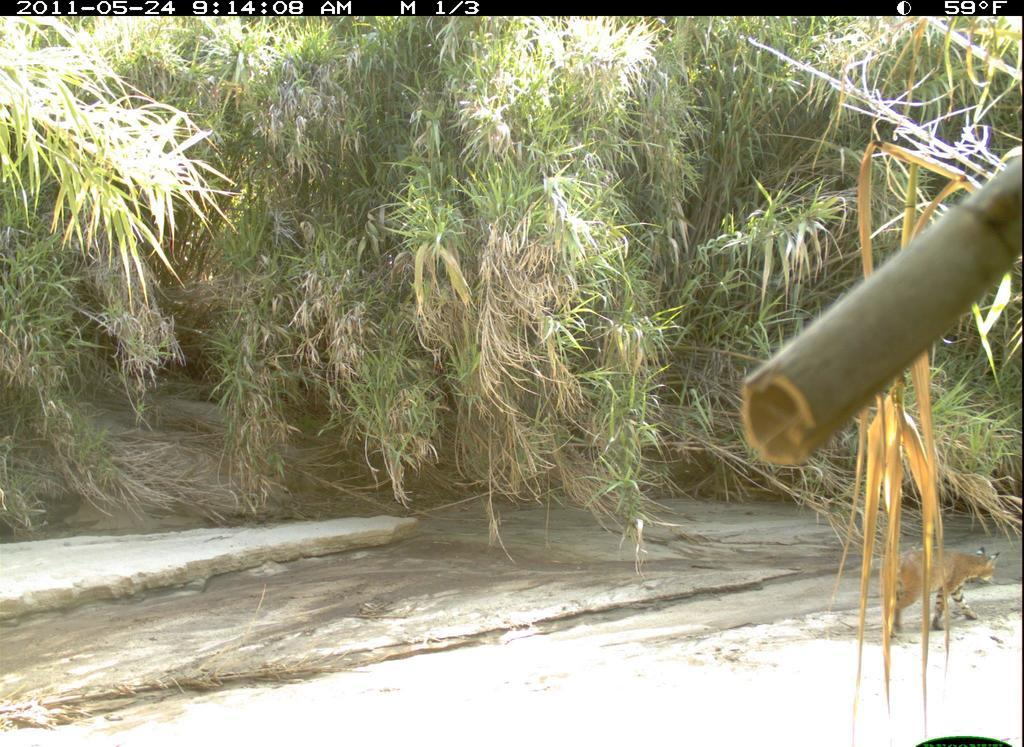bobcat: (871, 546, 1008, 638)
